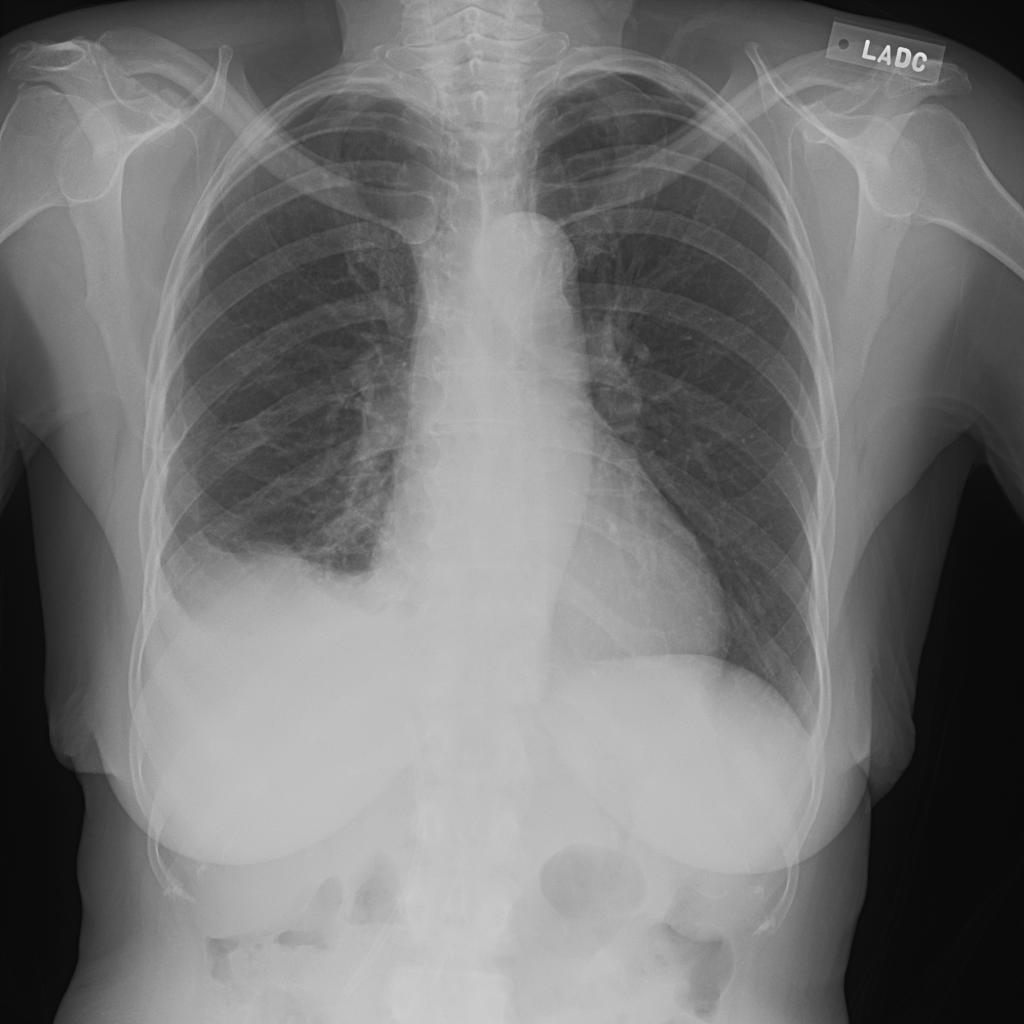Nodule: (151, 80, 172, 103), (138, 96, 159, 116), (151, 59, 172, 77)
